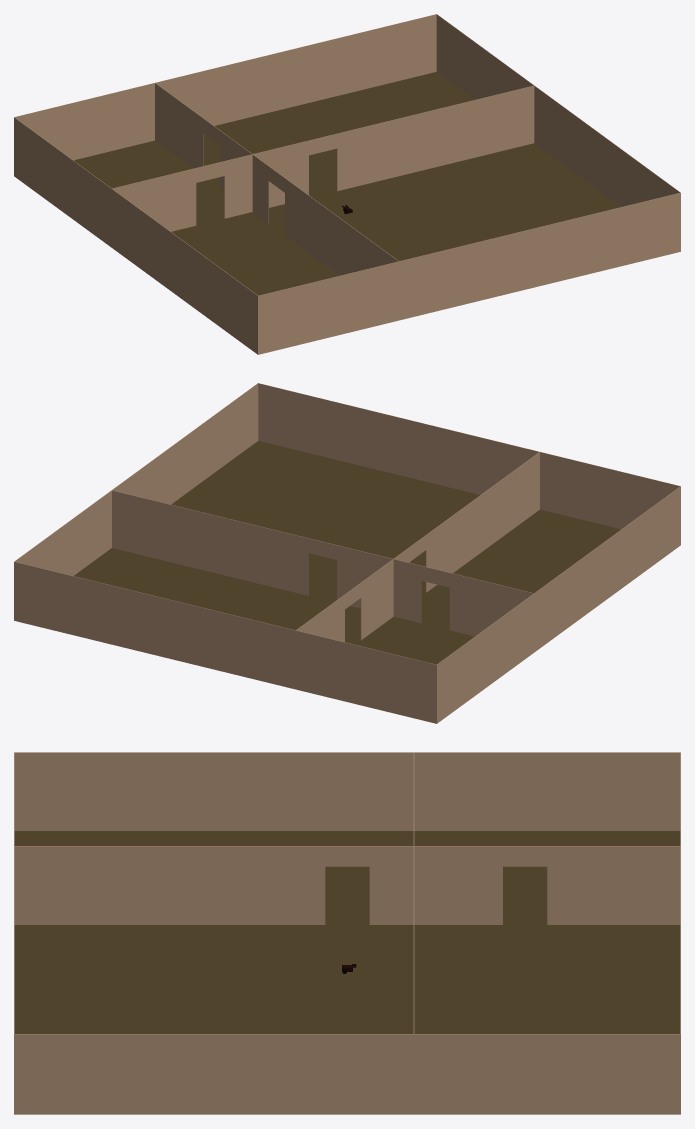
The model's file is TextureFloorLD.dae.
3 renders of one model, top to bottom at view 1: azimuth 30°, elevation 25°; view 2: azimuth 150°, elevation 25°; view 3: azimuth 270°, elevation 25°, orthographic. The views are drawn at different scales.
Visible parts, largest first — view 1: Plane, Cube_005, Cube_004, Cube_006, Cube_003, Cube_002, Cube_007; view 2: Plane, Cube_004, Cube_005, Cube_006, Cube_003, Cube_002, Cube_007; view 3: Plane, Cube_002, Cube_003, Cube_007, Cube_006.
Boxes of the visible parts, x1,y1,x2,y2 form: Plane: (74,72,620,295); Cube_005: (258,192,680,354); Cube_004: (14,14,436,160); Cube_006: (112,85,534,231); Cube_003: (14,117,258,354); Cube_002: (436,14,680,206); Cube_007: (155,83,398,275); Plane: (74,441,620,664); Cube_004: (14,561,436,723); Cube_005: (258,383,680,529); Cube_006: (112,490,533,636); Cube_003: (436,486,680,723); Cube_002: (14,383,258,575); Cube_007: (296,452,539,642); Plane: (14,831,680,1033); Cube_002: (14,1034,680,1114); Cube_003: (14,752,680,830); Cube_007: (14,846,680,924); Cube_006: (413,752,414,1033).
Size of the model in its own units: 30.03 by 30.03 by 4.
